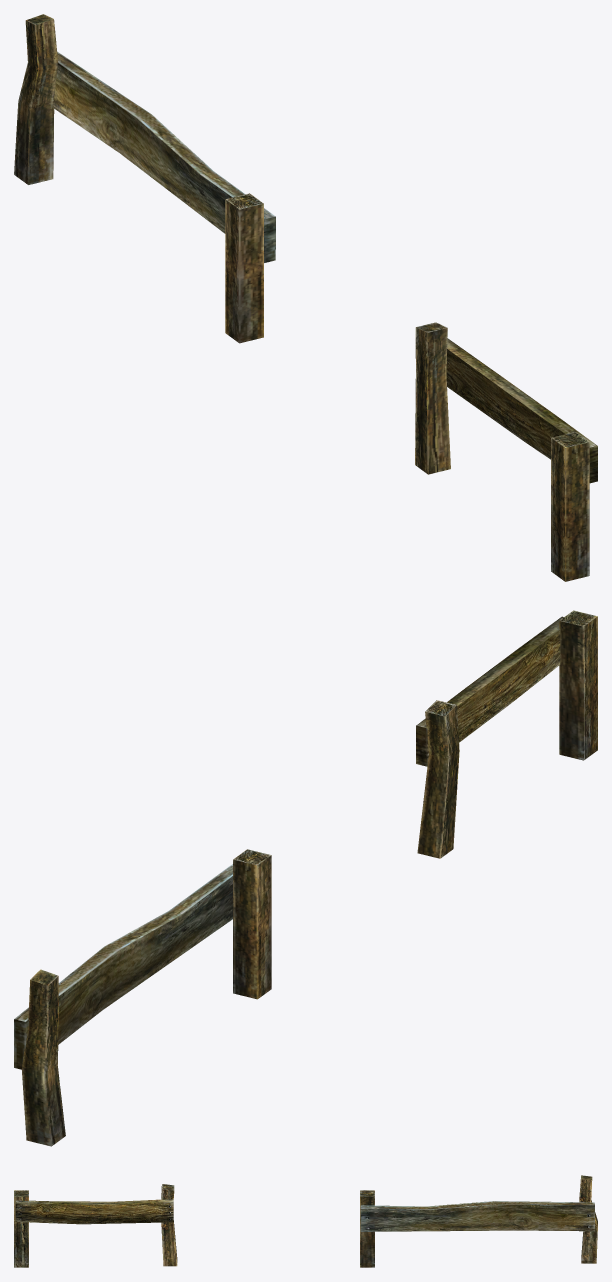
File: most_9.glb
3 views of the same model, one above another, from view 1: azimuth 30°, elevation 25°; view 2: azimuth 150°, elevation 25°; view 3: azimuth 270°, elevation 25° (orthographic). The views are drawn at different scales.
Parts seen in each view (by area): view 1: most_9; view 2: most_9; view 3: most_9.
Part boxes in pixels (x1,y1,x2,y2): most_9: (14,14,597,581); most_9: (14,610,597,1146); most_9: (14,1175,597,1267).
Size of the model in its own units: 0.5544 by 1.99 by 11.9.
Materials: 3 (3 with a texture image).
